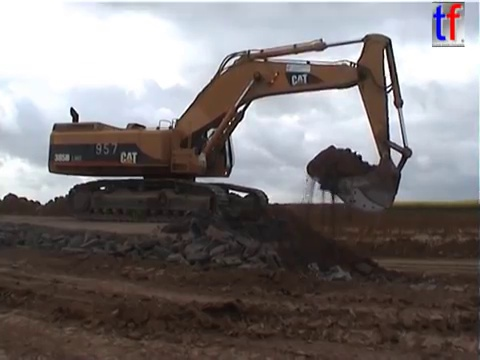excavator: (45, 31, 415, 227)
